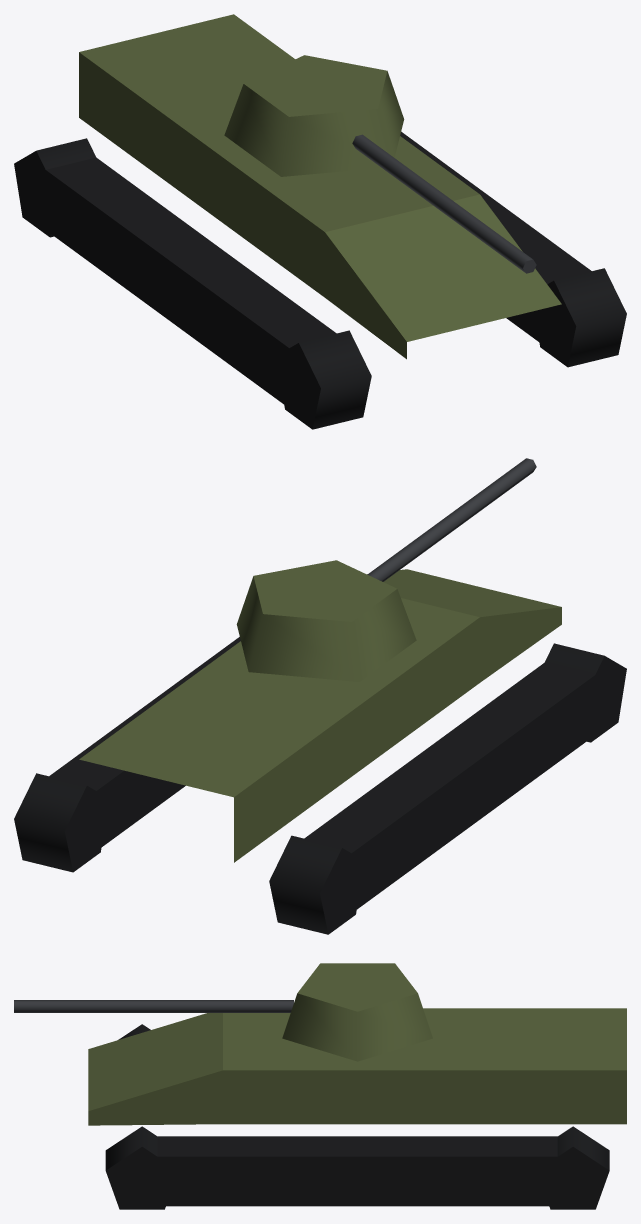
The model's file is veh_ground_tank_light_a06_lod1.glb.
The picture shows the model from 3 angles, top to bottom: view 1: azimuth 30°, elevation 25°; view 2: azimuth 150°, elevation 25°; view 3: azimuth 270°, elevation 25°; orthographic projection. The views are drawn at different scales.
Visible parts, largest first — view 1: body, track_r, turret, track_l; view 2: body, track_r, turret, track_l; view 3: body, track_l, turret.
Boxes of the visible parts, x1,y1,x2,y2 form: body: [79, 14, 561, 359]; track_r: [14, 138, 371, 429]; turret: [224, 55, 536, 273]; track_l: [400, 131, 626, 367]; body: [79, 569, 561, 862]; track_r: [269, 643, 626, 934]; turret: [236, 458, 536, 681]; track_l: [14, 637, 240, 872]; body: [88, 1008, 626, 1125]; track_l: [105, 1126, 609, 1209]; turret: [14, 963, 432, 1061].
Size of the model in its own units: 3.1 by 1.93 by 6.56.
